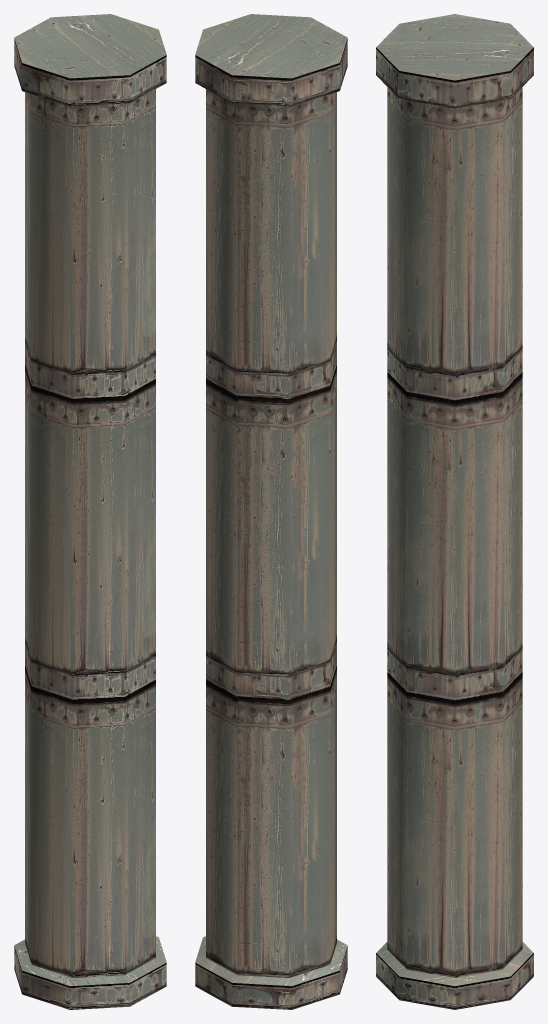
The model's file is pipe_long.fbx.
3 renders of one model, left to right at view 1: azimuth 30°, elevation 25°; view 2: azimuth 150°, elevation 25°; view 3: azimuth 270°, elevation 25°, orthographic.
Visible parts, largest first — view 1: Mesh Object; view 2: Mesh Object; view 3: Mesh Object.
Part boxes in pixels (box(x1,y1,x2,y2)): Mesh Object: box(14, 14, 166, 1009); Mesh Object: box(195, 14, 347, 1009); Mesh Object: box(376, 14, 533, 1009).
Size of the model in its own units: 0.7284 by 4.74 by 0.7284.
